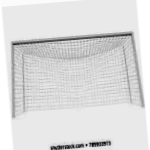goals: (10, 31, 146, 118)
